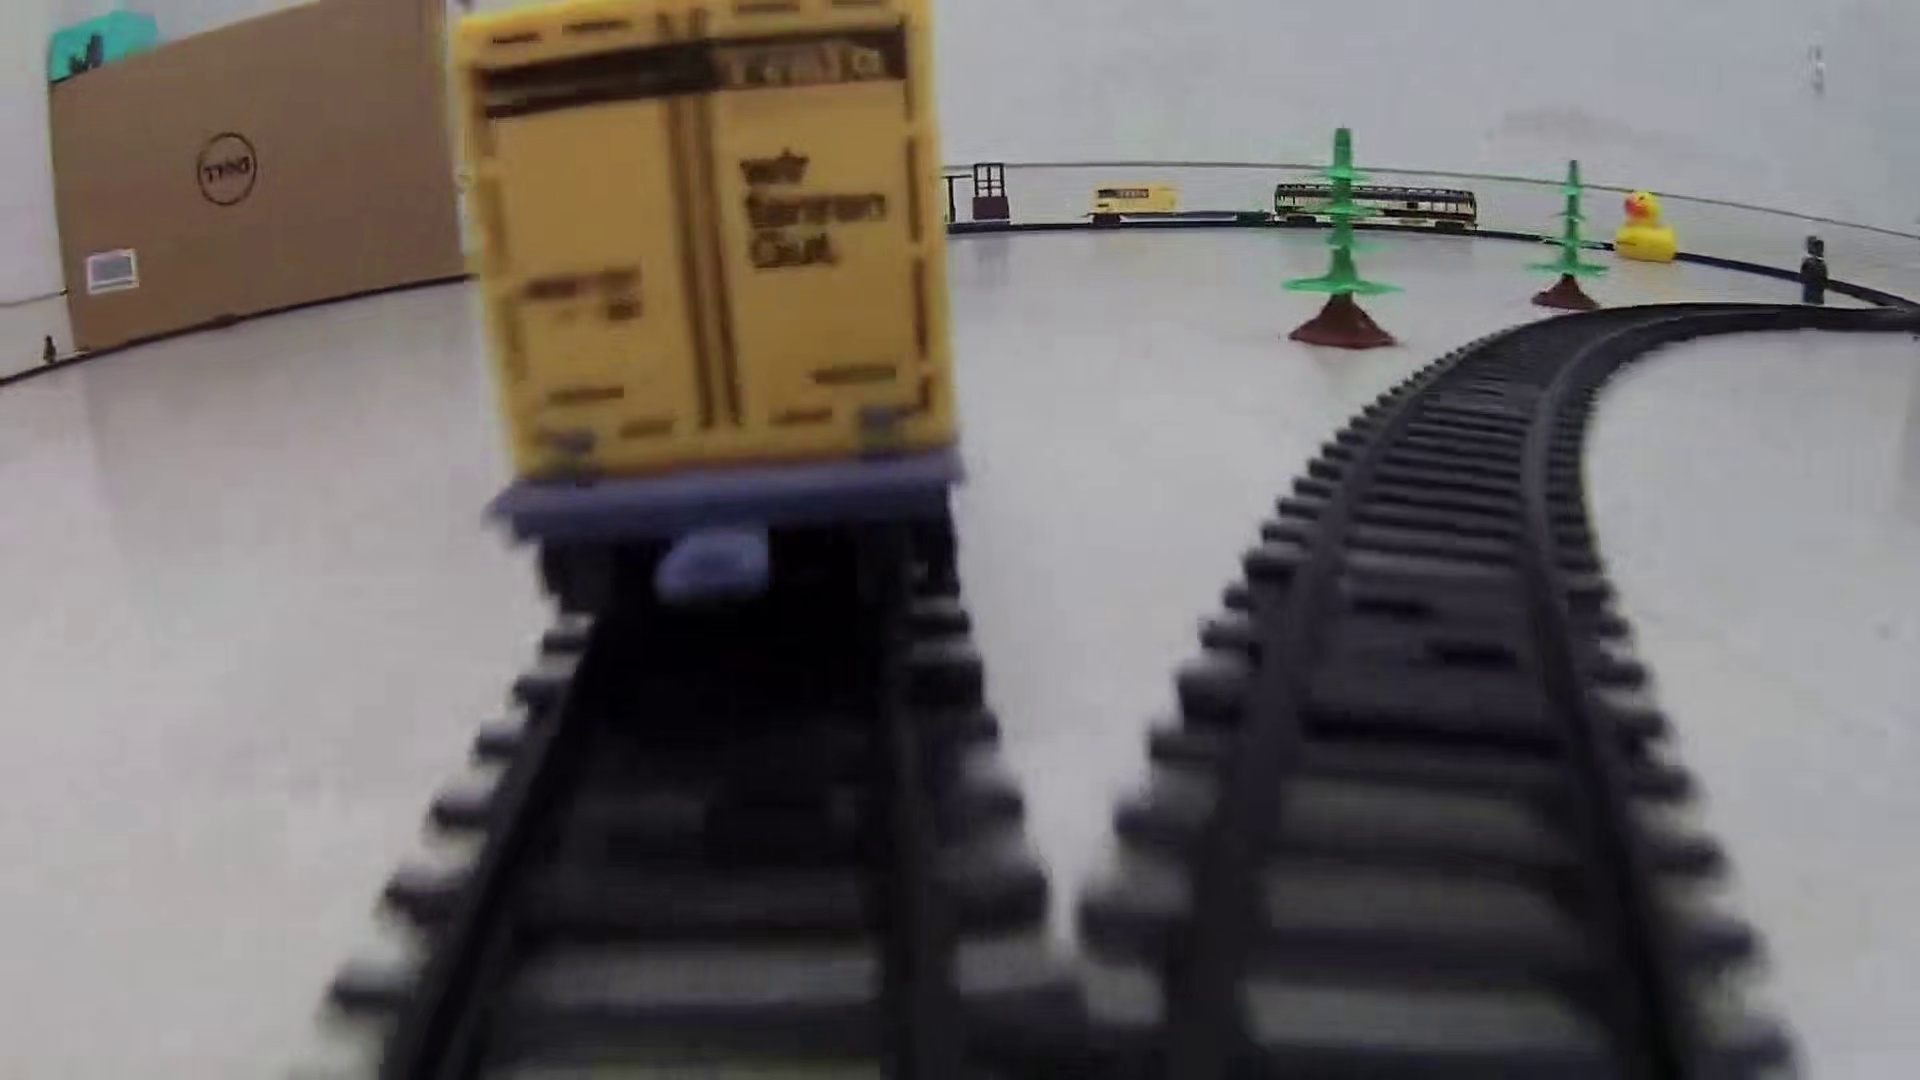people: (1794, 235, 1833, 310)
tree: (1275, 124, 1405, 353), (1525, 158, 1612, 319)
